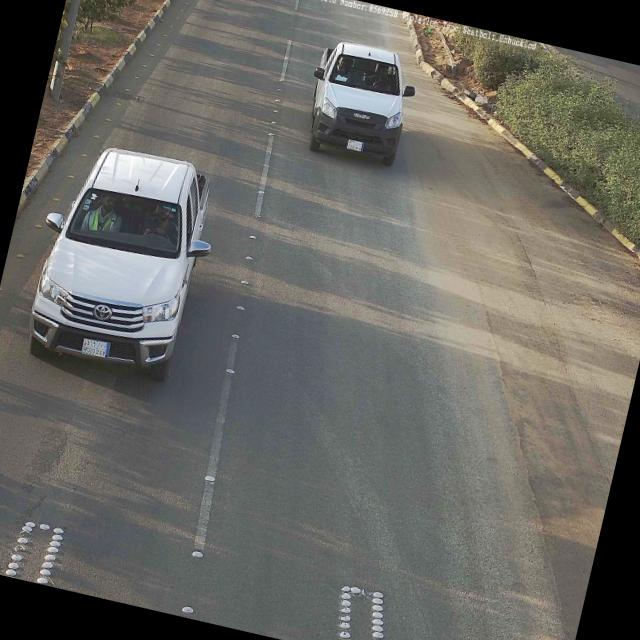person_without_seatbelt: (140, 199, 182, 244)
